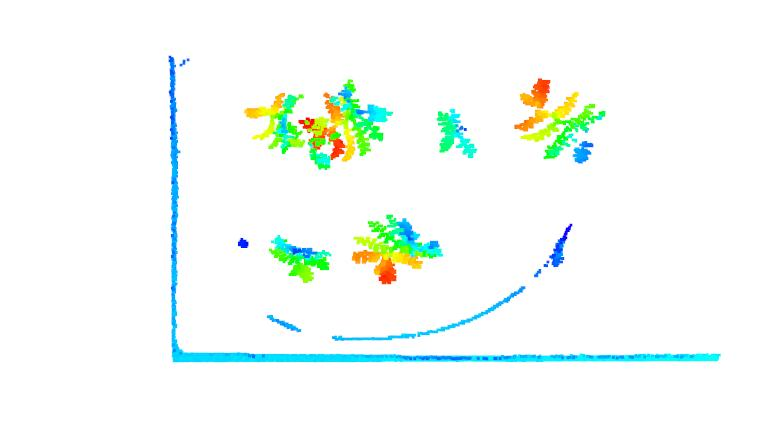chickpea: (510, 75, 609, 165), (307, 79, 395, 165), (352, 214, 444, 282), (242, 91, 308, 156), (267, 235, 334, 285), (432, 106, 481, 161)
